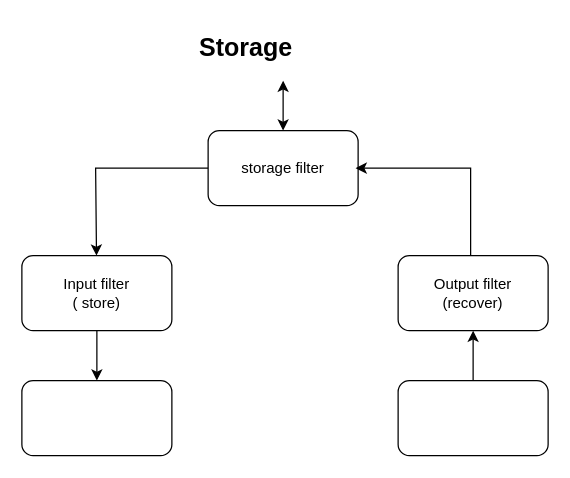
Image size: 570x478. Some labels were removed from this diagram. The shapes that lost their labels are listed below. From the top down, each one's centre as x and y in pixels, then its label:
At (96,417): "Input filters: crypt, prepare, sharding, etc".
At (472,417): "Output filters: decrypt, prepare, enhance, etc".
